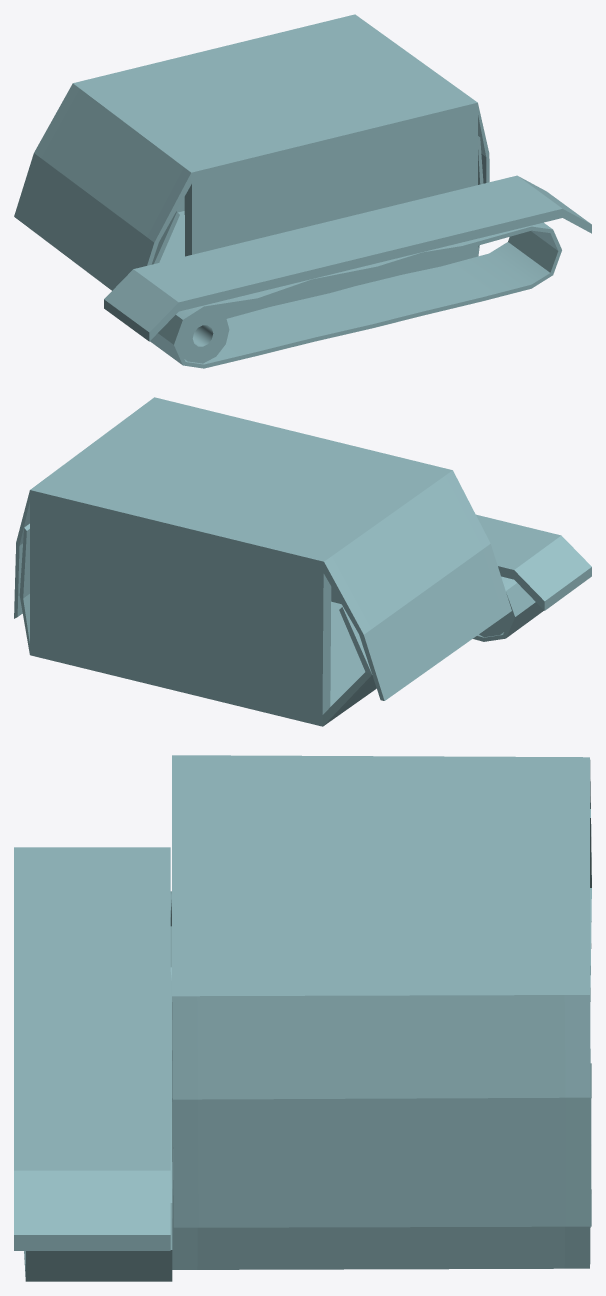
Rendered from TankBody_GlassCannon_Group.FBX.
The picture shows the model from 3 angles, top to bottom: view 1: azimuth 30°, elevation 25°; view 2: azimuth 150°, elevation 25°; view 3: azimuth 270°, elevation 25°; orthographic projection. The views are drawn at different scales.
Parts seen in each view (by area): view 1: TankBody_GlassCannon, TankFold_GlassCannon, TankThread_GlassCannon, TankWheel_GlassCannon; view 2: TankBody_GlassCannon, TankFold_GlassCannon, TankThread_GlassCannon; view 3: TankBody_GlassCannon, TankFold_GlassCannon, TankThread_GlassCannon.
Part boxes in pixels (left/top/right/bottom): TankBody_GlassCannon: left=14, top=14, right=489, bottom=318; TankFold_GlassCannon: left=104, top=175, right=591, bottom=341; TankThread_GlassCannon: left=150, top=222, right=561, bottom=368; TankWheel_GlassCannon: left=178, top=309, right=229, bottom=363; TankBody_GlassCannon: left=14, top=397, right=511, bottom=726; TankFold_GlassCannon: left=476, top=514, right=591, bottom=610; TankThread_GlassCannon: left=473, top=576, right=543, bottom=641; TankBody_GlassCannon: left=172, top=755, right=591, bottom=1269; TankFold_GlassCannon: left=14, top=847, right=170, bottom=1250; TankThread_GlassCannon: left=24, top=891, right=172, bottom=1281.
Size of the model in its own units: 151 by 51.67 by 98.86.
